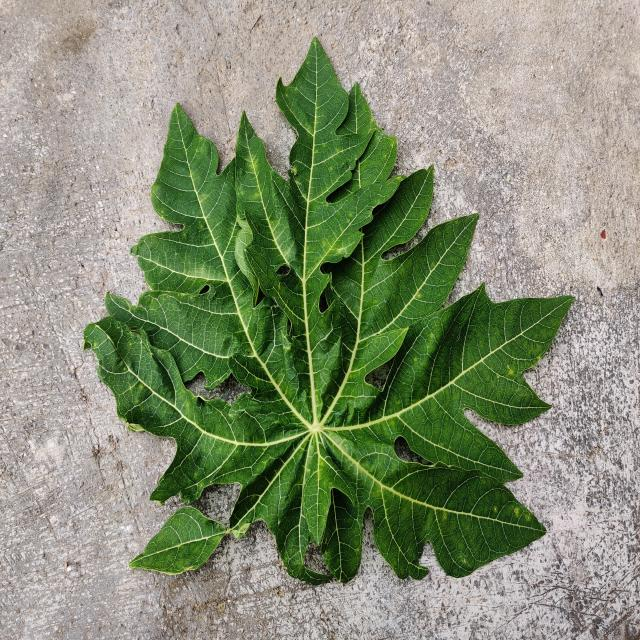papaya: (85, 40, 572, 583)
